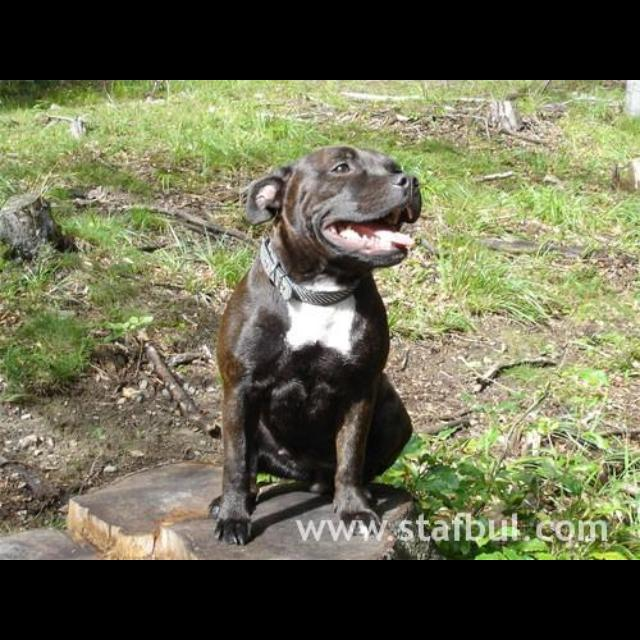staffford: (207, 146, 423, 547)
